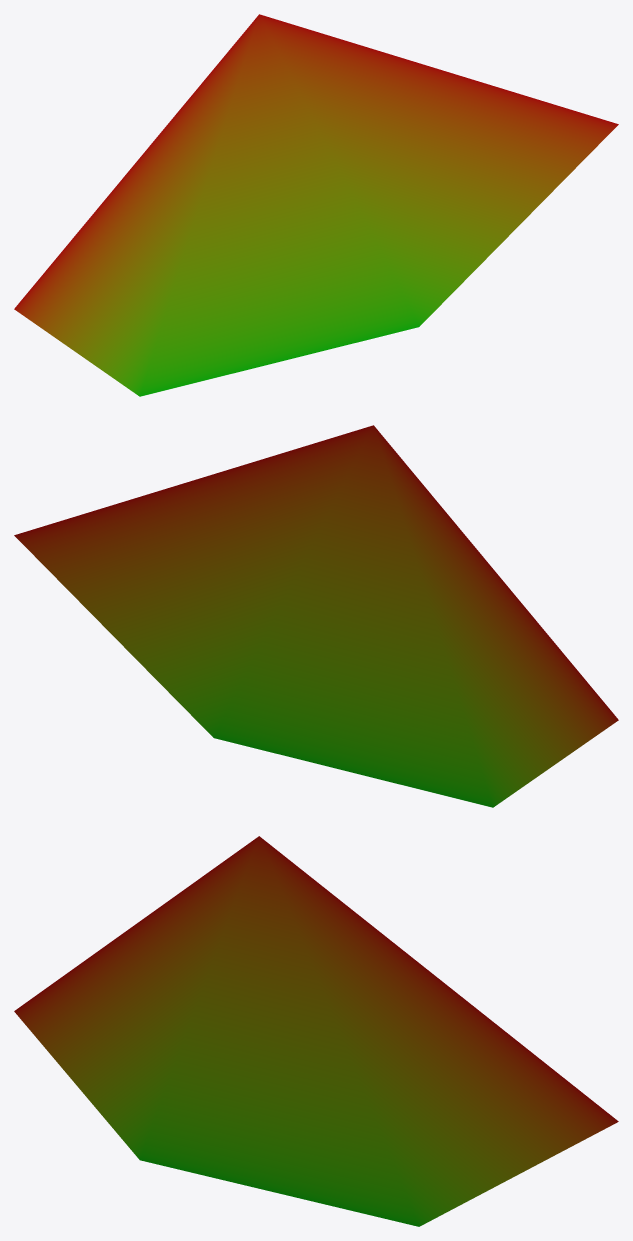
File: Tundra Grass_LOD7_Var1_wk2oaeyqx.fbx
3 renders of one model, top to bottom at view 1: azimuth 30°, elevation 25°; view 2: azimuth 150°, elevation 25°; view 3: azimuth 330°, elevation 25°, orthographic.
Visible parts, largest first — view 1: _zvob_Var1_LOD7; view 2: _zvob_Var1_LOD7; view 3: _zvob_Var1_LOD7.
Boxes of the visible parts, x1,y1,x2,y2 form: _zvob_Var1_LOD7: (14,14,618,396); _zvob_Var1_LOD7: (14,425,618,807); _zvob_Var1_LOD7: (14,836,618,1226).
Size of the model in its own units: 40.85 by 22.8 by 1.1e-06.
